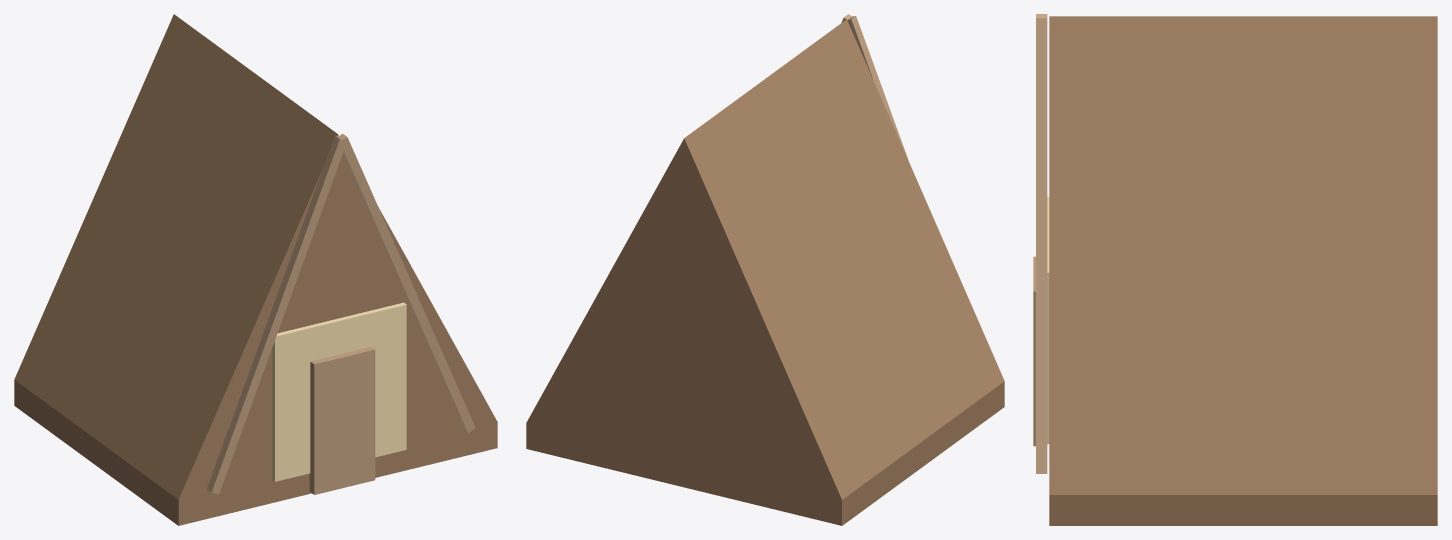
File: cedar-cabin.glb
The picture shows the model from 3 angles, left to right: view 1: azimuth 30°, elevation 25°; view 2: azimuth 150°, elevation 25°; view 3: azimuth 270°, elevation 25°; orthographic projection. The views are drawn at different scales.
Visible parts, largest first — view 1: Tall cedar A frame, A frame glazed front, Cedar platform, A frame entry, A frame trim, A frame trim.001; view 2: Tall cedar A frame, Cedar platform, A frame trim; view 3: Tall cedar A frame, Cedar platform, A frame trim.001, A frame glazed front, A frame entry.
Part boxes in pixels (x1=…): Tall cedar A frame: x1=14, y1=14, x2=497, y2=499; A frame glazed front: x1=272, y1=302, x2=406, y2=481; Cedar platform: x1=14, y1=380, x2=497, y2=525; A frame entry: x1=309, y1=346, x2=375, y2=494; A frame trim: x1=207, y1=135, x2=347, y2=493; A frame trim.001: x1=339, y1=133, x2=475, y2=433; Tall cedar A frame: x1=526, y1=19, x2=1004, y2=499; Cedar platform: x1=526, y1=381, x2=1004, y2=525; A frame trim: x1=844, y1=16, x2=908, y2=159; Tall cedar A frame: x1=1049, y1=16, x2=1437, y2=494; Cedar platform: x1=1049, y1=495, x2=1437, y2=525; A frame trim.001: x1=1036, y1=18, x2=1047, y2=473; A frame glazed front: x1=1047, y1=196, x2=1049, y2=444; A frame entry: x1=1033, y1=256, x2=1035, y2=446.
Size of the model in its own units: 4.6 by 4.86 by 4.27.
